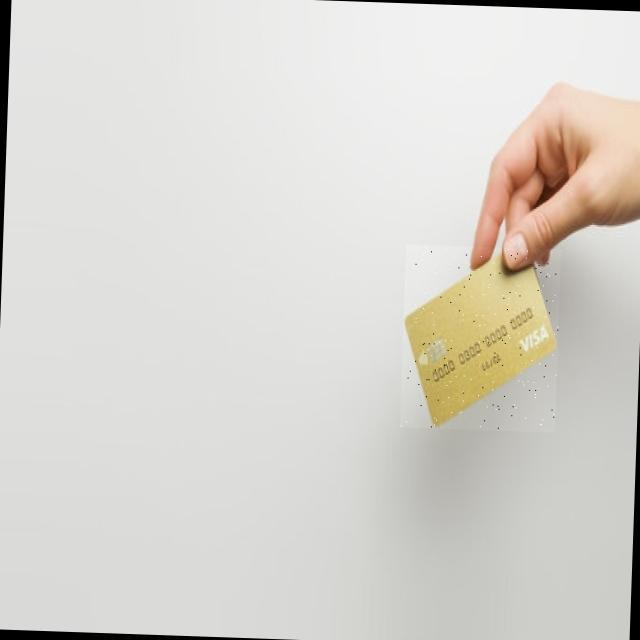payment_card: (401, 242, 558, 429)
